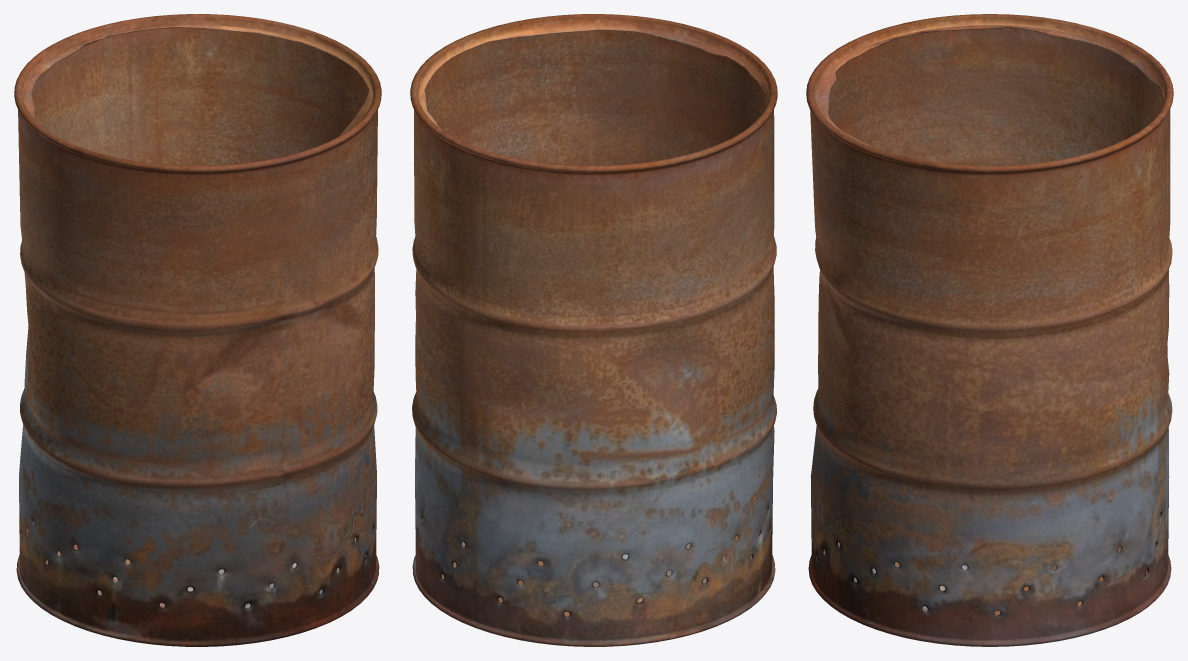
Rendered from barrel_stove.glb.
The picture shows the model from 3 angles, left to right: view 1: azimuth 30°, elevation 25°; view 2: azimuth 150°, elevation 25°; view 3: azimuth 270°, elevation 25°; orthographic projection.
Parts seen in each view (by area): view 1: barrel_stove; view 2: barrel_stove; view 3: barrel_stove.
Part boxes in pixels (box(x1,y1,x2,y2)): barrel_stove: box(14, 14, 381, 646); barrel_stove: box(410, 14, 777, 646); barrel_stove: box(806, 14, 1173, 646).
Size of the model in its own units: 0.5926 by 0.8556 by 0.5926.
1 material, 1 textured.
